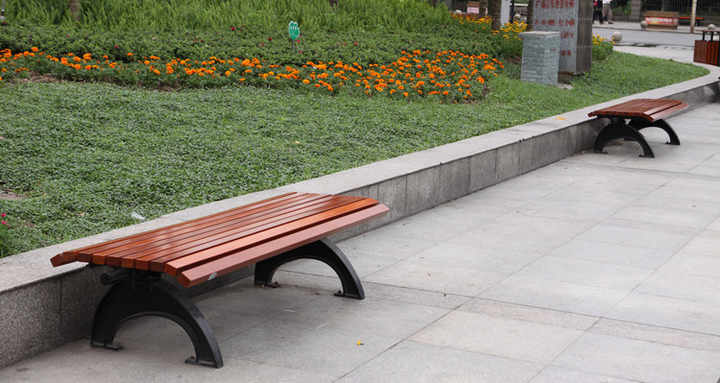Chair: (57, 189, 399, 371), (584, 95, 694, 165)
